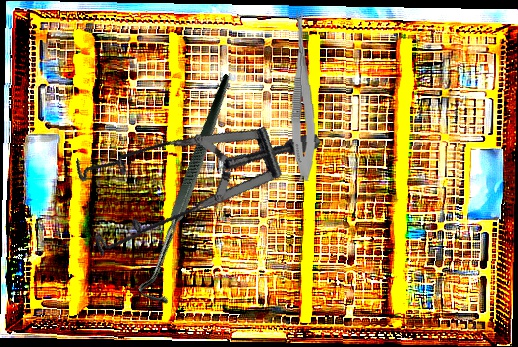Hook Surgical: (70, 73, 314, 312)
Micro Scissor: (284, 7, 319, 182)
Speculum: (52, 70, 324, 309)
